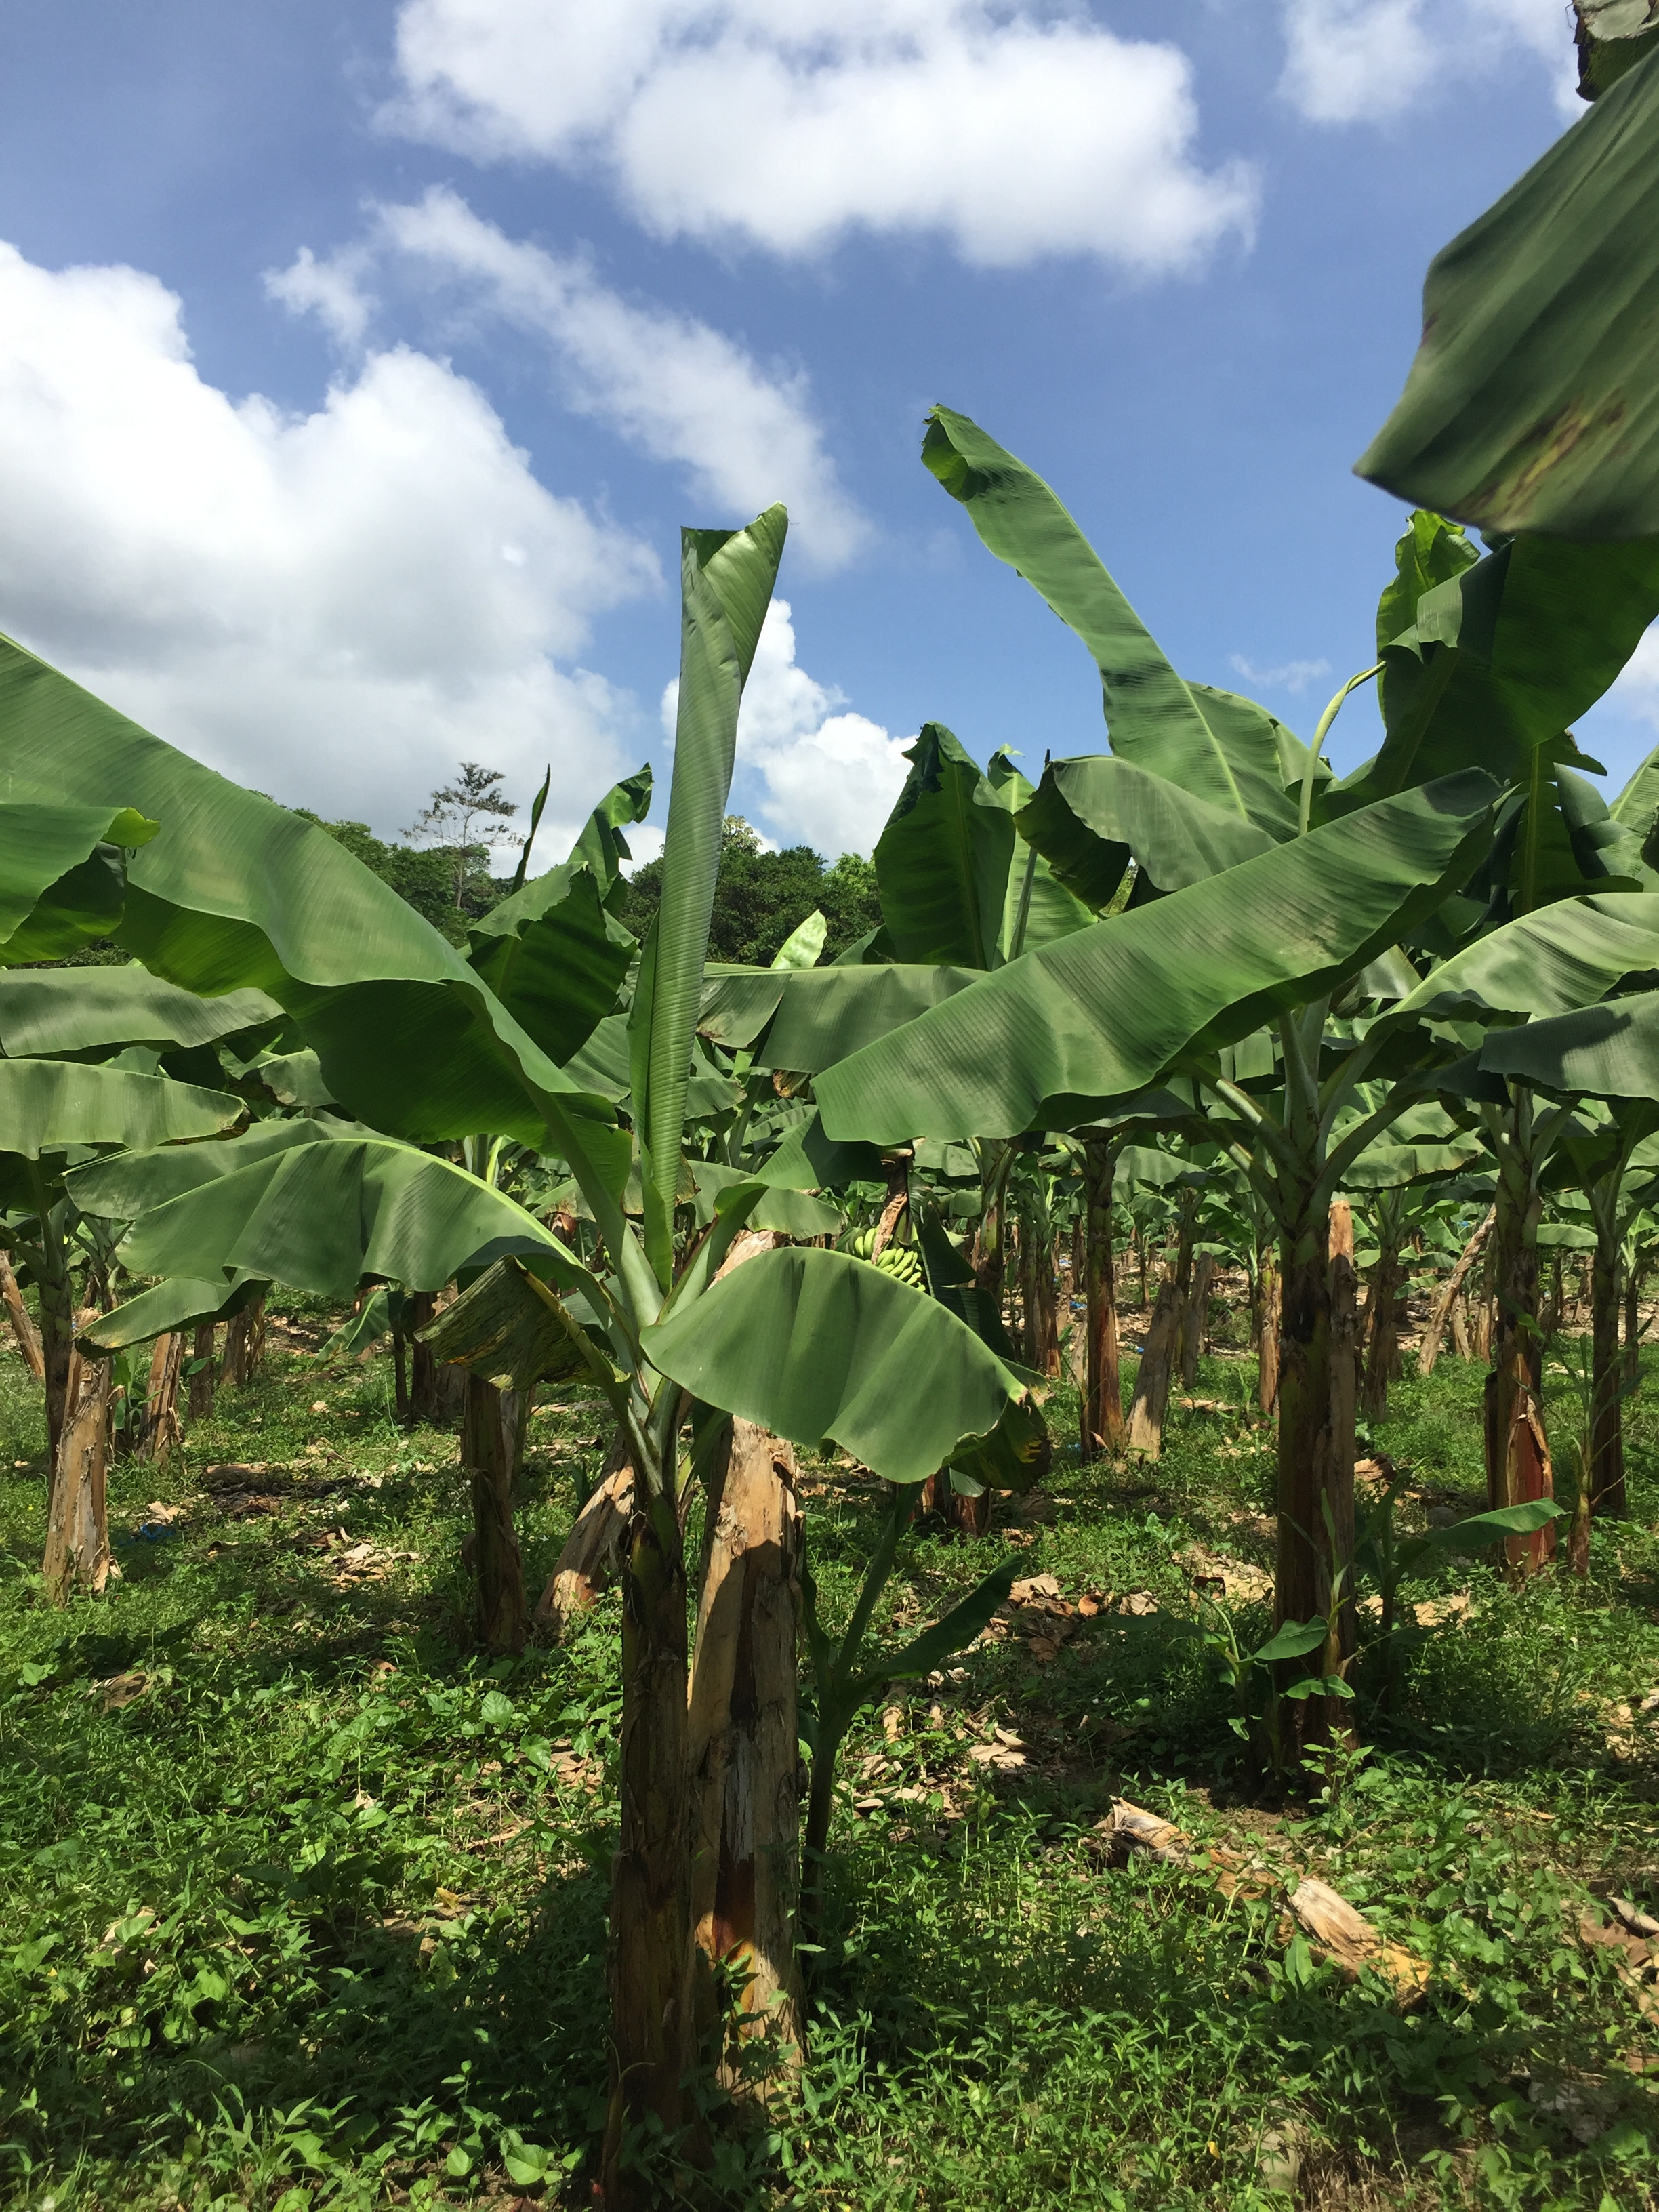candleleafs: (643, 505, 788, 1264), (1302, 660, 1387, 841)
